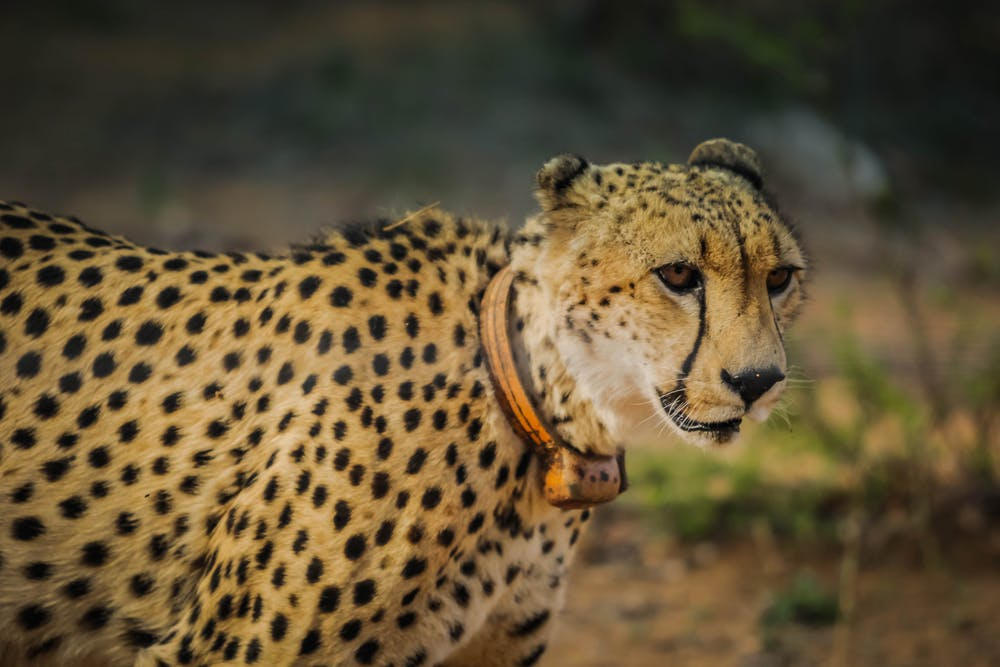cheetah: (495, 133, 812, 486)
